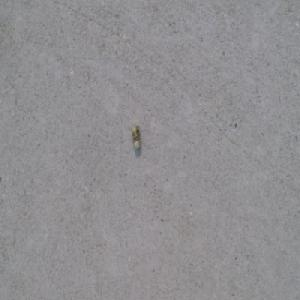BoltNutSet: (130, 123, 141, 147)
